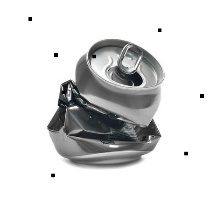can: (43, 36, 171, 171)
